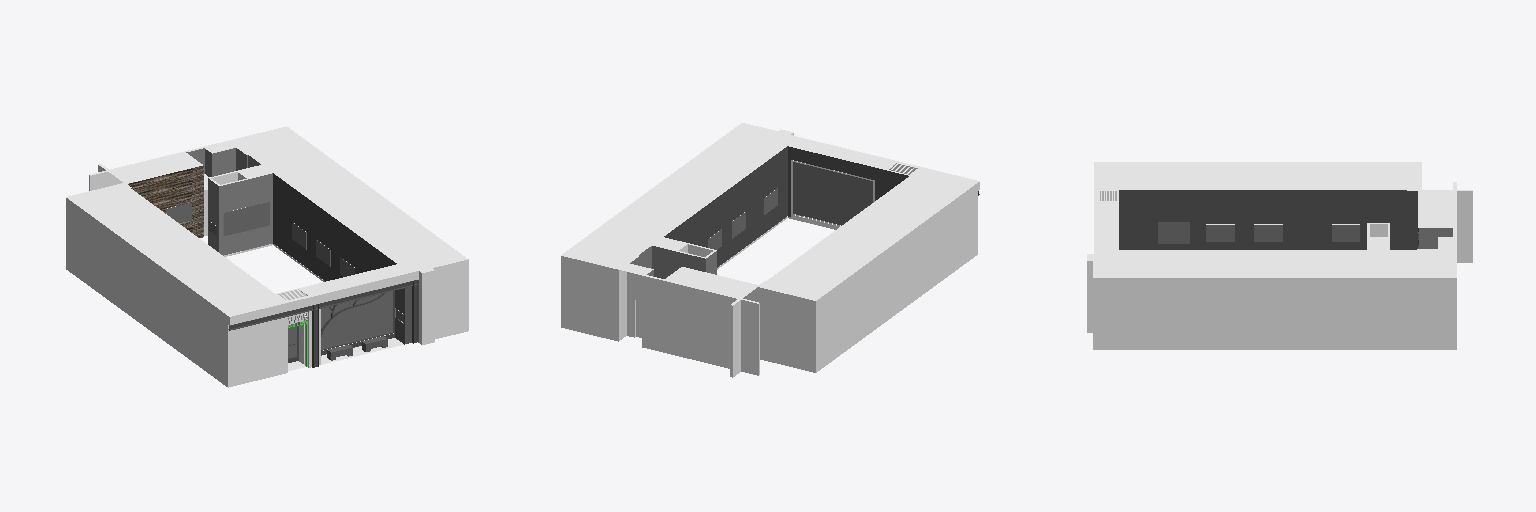
3 renders of one model, left to right at view 1: azimuth 30°, elevation 25°; view 2: azimuth 150°, elevation 25°; view 3: azimuth 270°, elevation 25°, orthographic.
Visible parts, largest first — view 1: Mesh27 Group5 floor_plansdxf_dwg1 Model, Mesh7 Component_3_1 Group6 Group5 floor_plansdxf_dwg1 Model; view 2: Mesh27 Group5 floor_plansdxf_dwg1 Model; view 3: Mesh27 Group5 floor_plansdxf_dwg1 Model, Mesh29 Component_16_1 Component_14_1 Group11 floor_plansdxf_dwg1.
Boxes of the visible parts, box(x1,y1,x2,y2) form: Mesh27 Group5 floor_plansdxf_dwg1 Model: box(66, 126, 468, 387); Mesh7 Component_3_1 Group6 Group5 floor_plansdxf_dwg1 Model: box(228, 280, 417, 330); Mesh27 Group5 floor_plansdxf_dwg1 Model: box(561, 123, 979, 377); Mesh27 Group5 floor_plansdxf_dwg1 Model: box(1087, 162, 1472, 349); Mesh29 Component_16_1 Component_14_1 Group11 floor_plansdxf_dwg1: box(1158, 222, 1189, 243).
Bounding box in the file's own units: 14.8 × 4.27 × 20.77.
Materials: 7 (1 with a texture image).